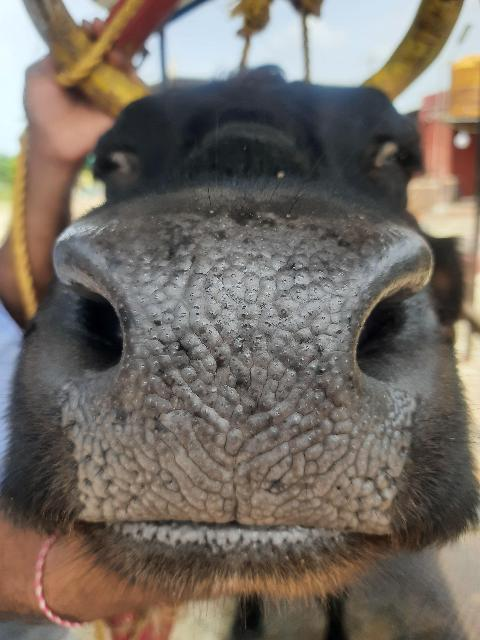Muzzle: (121, 232, 347, 508)
